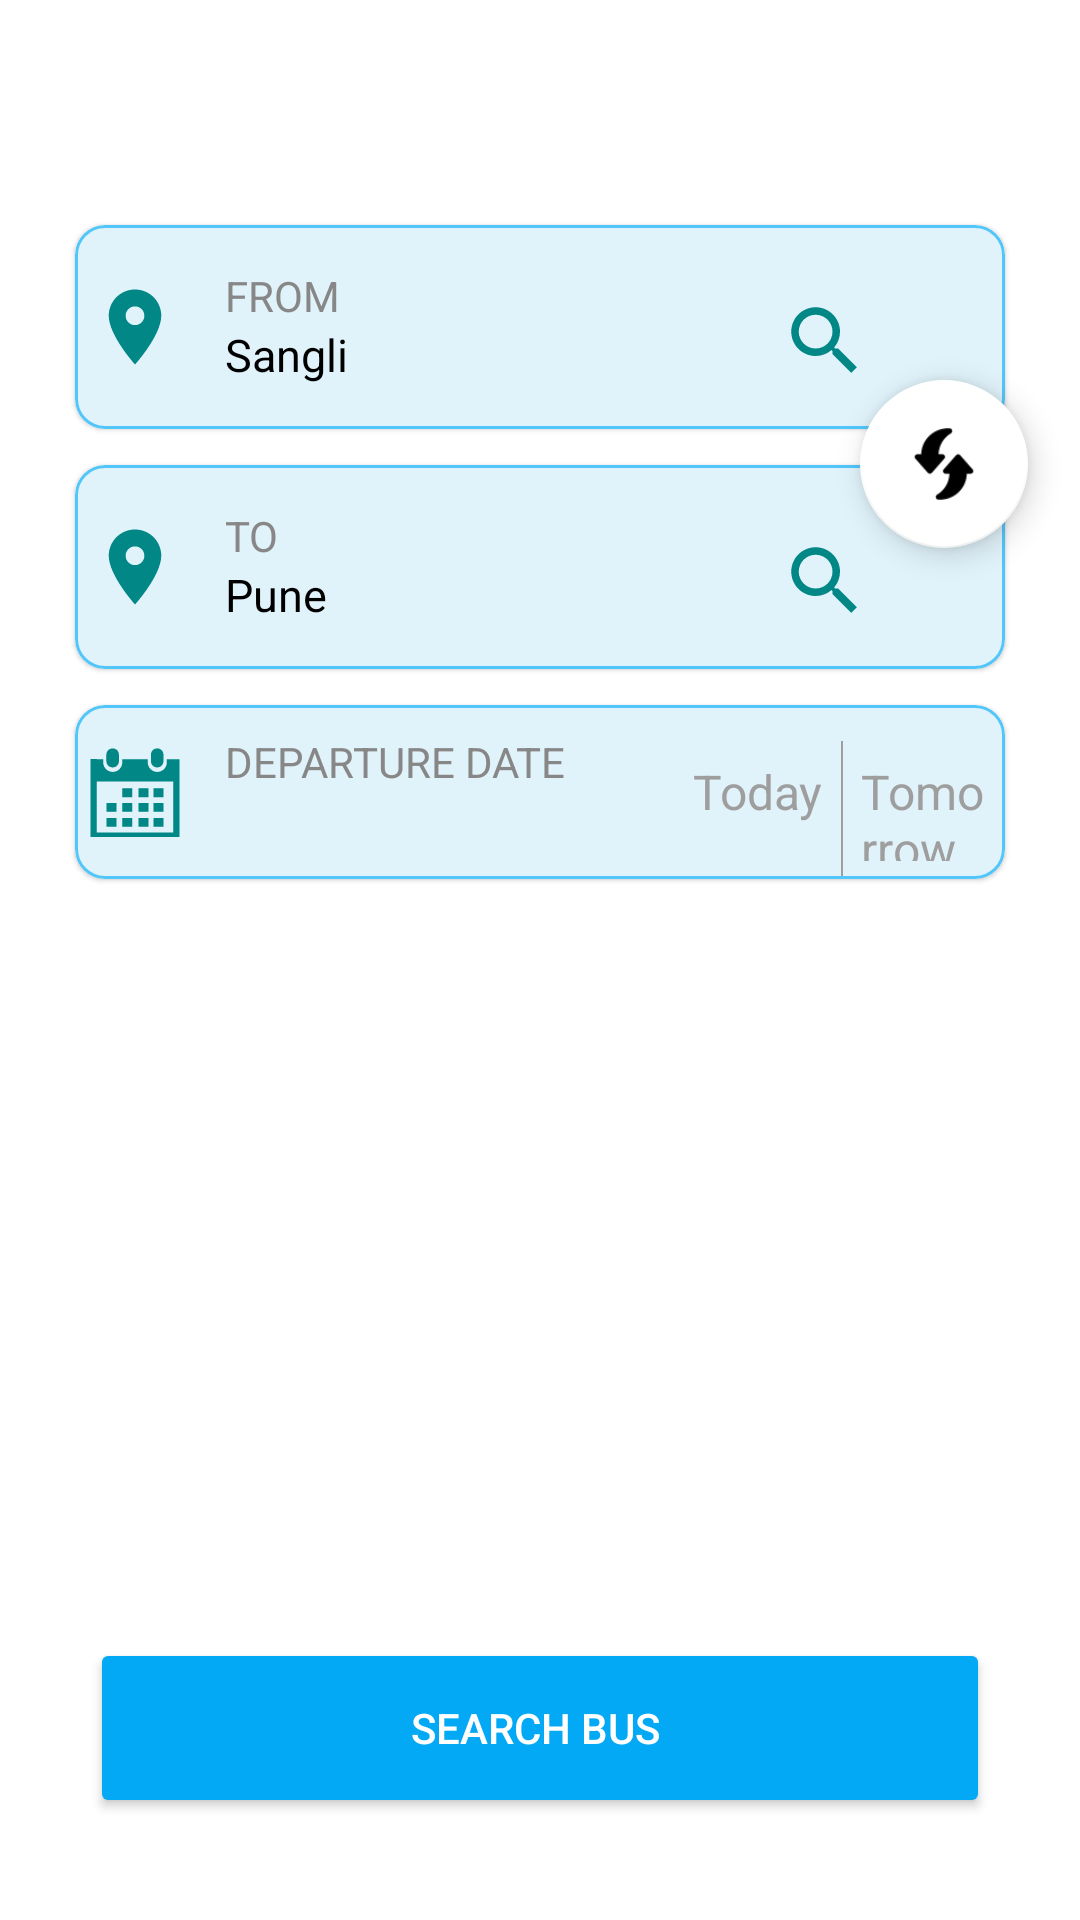

Named icons in this screenshot (1080*1920) and their bounding boxes, (x1, y1, x2, y2):
cal: (90, 748, 180, 837)
location: (108, 289, 162, 364), (108, 529, 162, 604)
search: (791, 307, 857, 373), (791, 547, 857, 613)
swap: (860, 380, 1028, 548)
